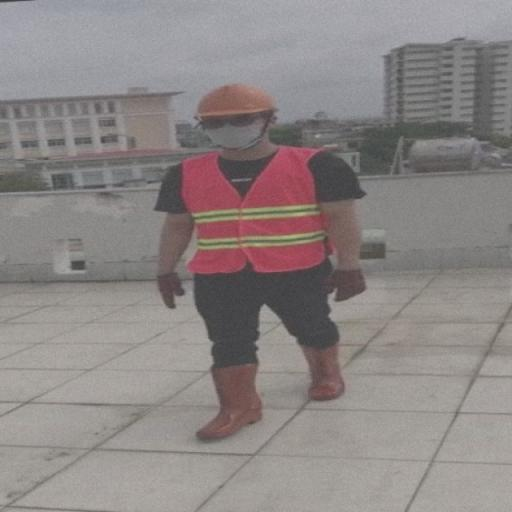Person: (128, 76, 372, 456)
boots: (186, 354, 273, 438), (296, 328, 351, 402)
gloves: (318, 265, 370, 303), (154, 274, 192, 308)
goggles: (194, 108, 280, 130)
helmet: (193, 82, 285, 123)
vest: (175, 142, 335, 279)
